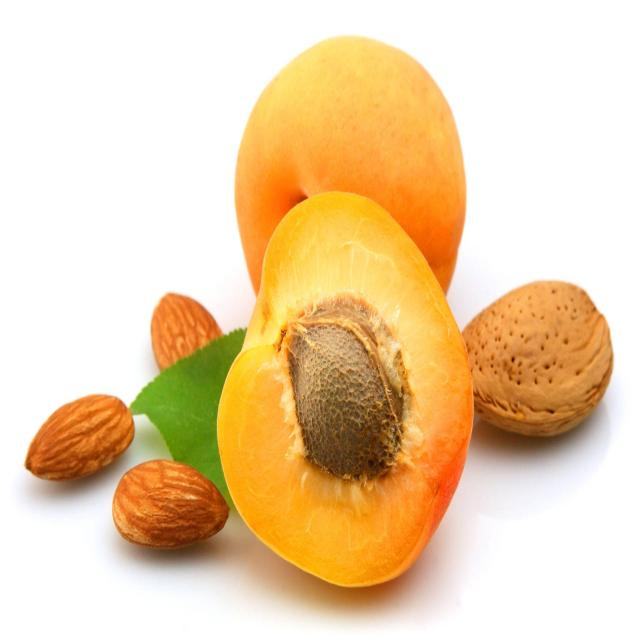cekirdek: (465, 286, 607, 417), (288, 326, 397, 477), (116, 462, 223, 544), (29, 393, 130, 479), (152, 292, 222, 366)
kayisi: (262, 197, 473, 578), (235, 22, 481, 335)
yaprak: (134, 337, 245, 508)
